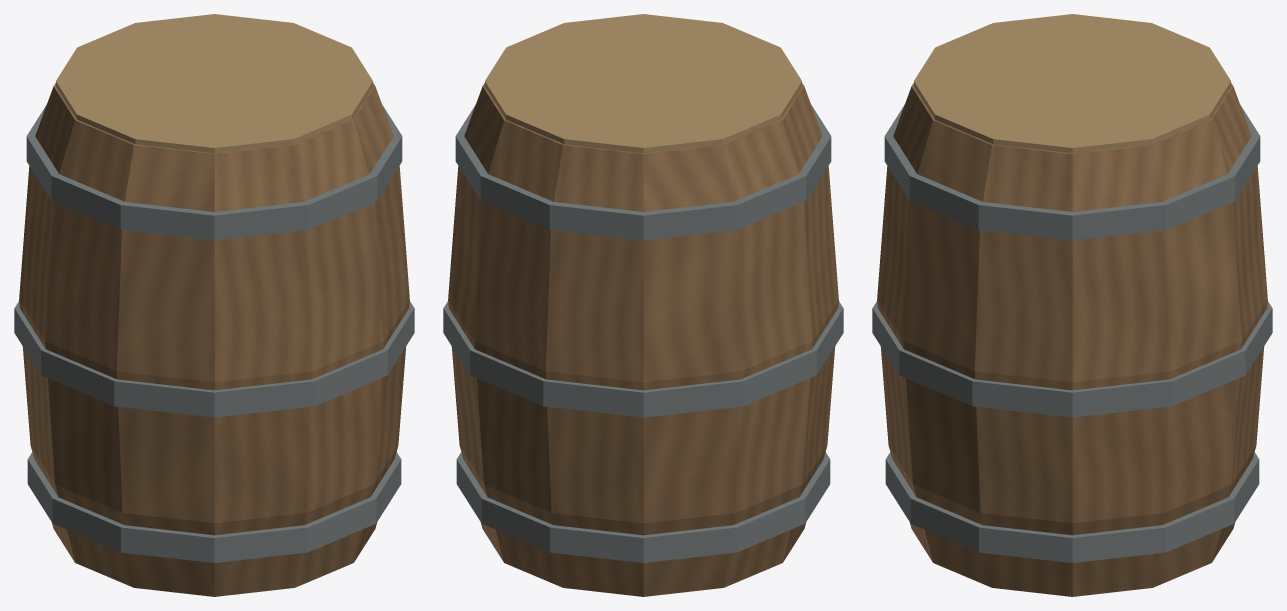
File: barrel.glb
The picture shows the model from 3 angles, left to right: view 1: azimuth 30°, elevation 25°; view 2: azimuth 150°, elevation 25°; view 3: azimuth 270°, elevation 25°; orthographic projection.
Parts seen in each view (by area): view 1: barrel; view 2: barrel; view 3: barrel.
Part boxes in pixels (bbox=[...]): barrel: bbox=[14, 14, 414, 596]; barrel: bbox=[443, 14, 843, 596]; barrel: bbox=[872, 14, 1272, 596].
Size of the model in its own units: 0.696 by 0.86 by 0.696.
3 materials, 1 textured.
